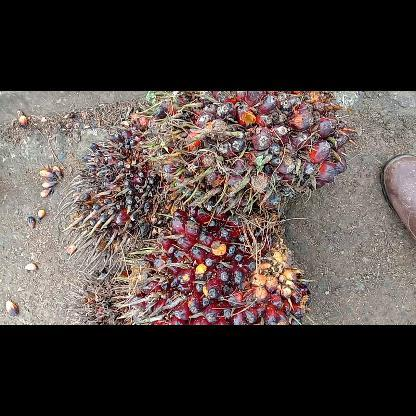TBS abnormal: (52, 128, 178, 284), (61, 256, 139, 324)
TBS masak: (137, 92, 351, 216), (111, 198, 315, 324)
